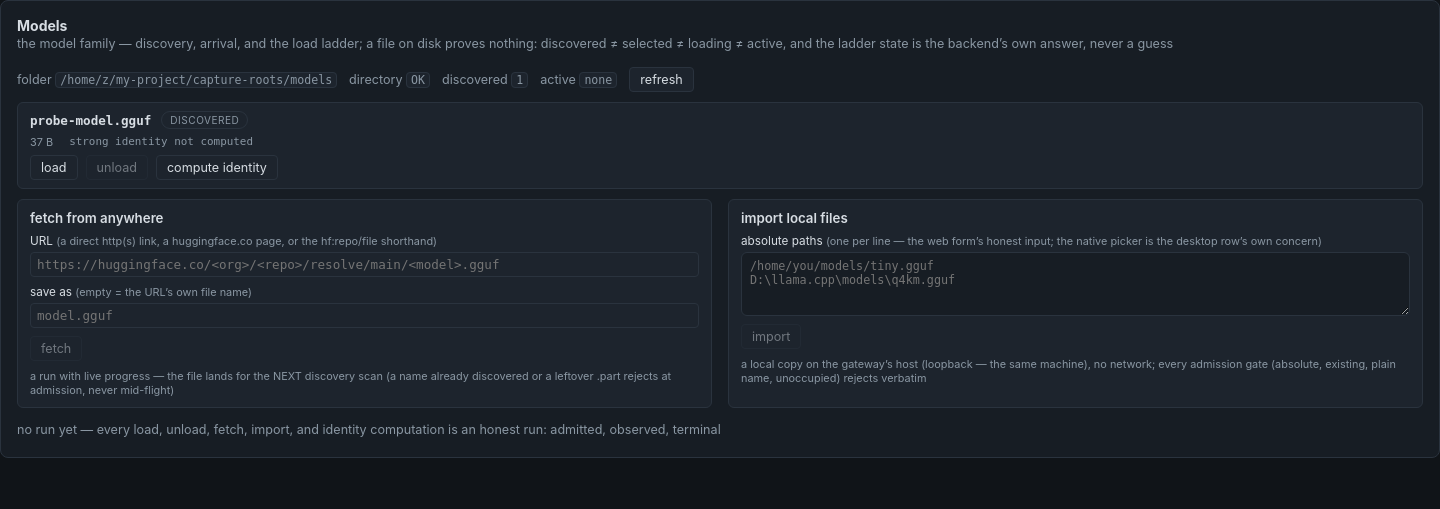
Test: the Models surface (Phase 3, row 6 — the model family's mirror) › the relative import path rejection renders the §16 law VERBATIM
The width and height of the screenshot is (1440, 509).
Expected: the list item with test id "models-row-probe-model.gguf" is shown, [17,102,1423,189]
In the text box with test id "models-import-paths": {"x": 1076, "y": 284} [741,252,1410,316], type "relative/model.gguf"
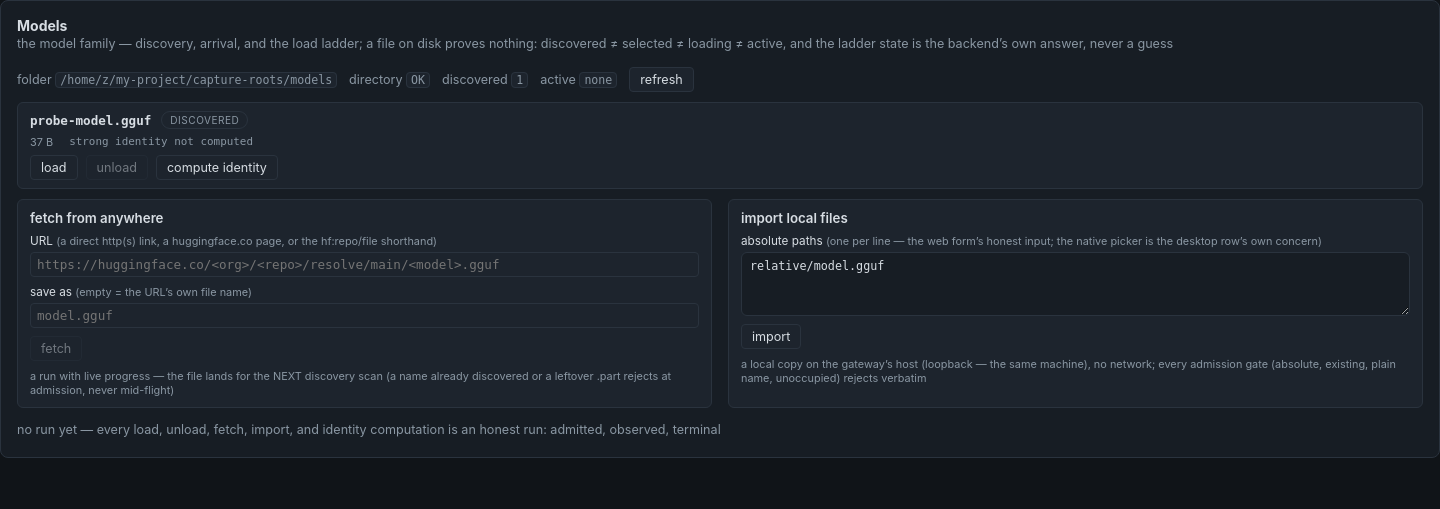
Click the button "import": {"x": 771, "y": 336} [741,324,801,349]
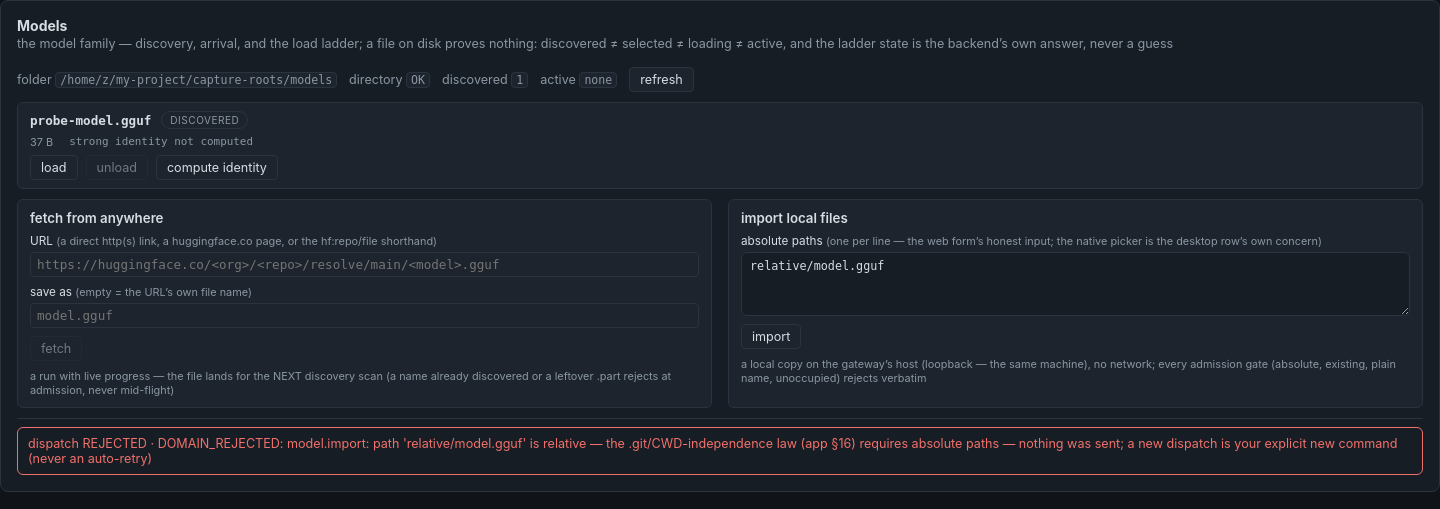
Now the message shows "is relative", box [28,436,1398,466]
Now the message shows "requires absolute paths", box [28,436,1398,466]
